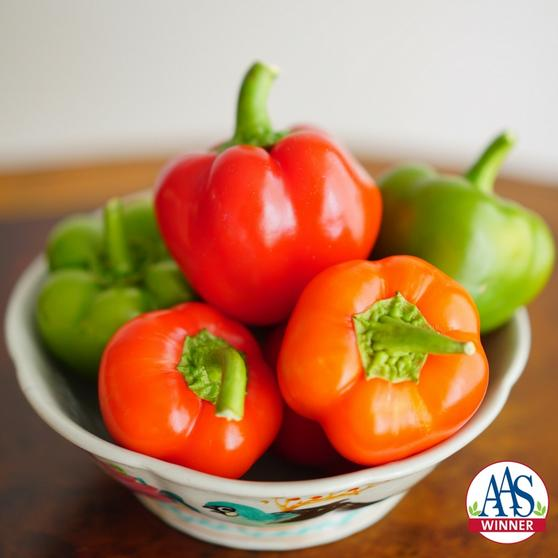pepper: (154, 126, 383, 312)
